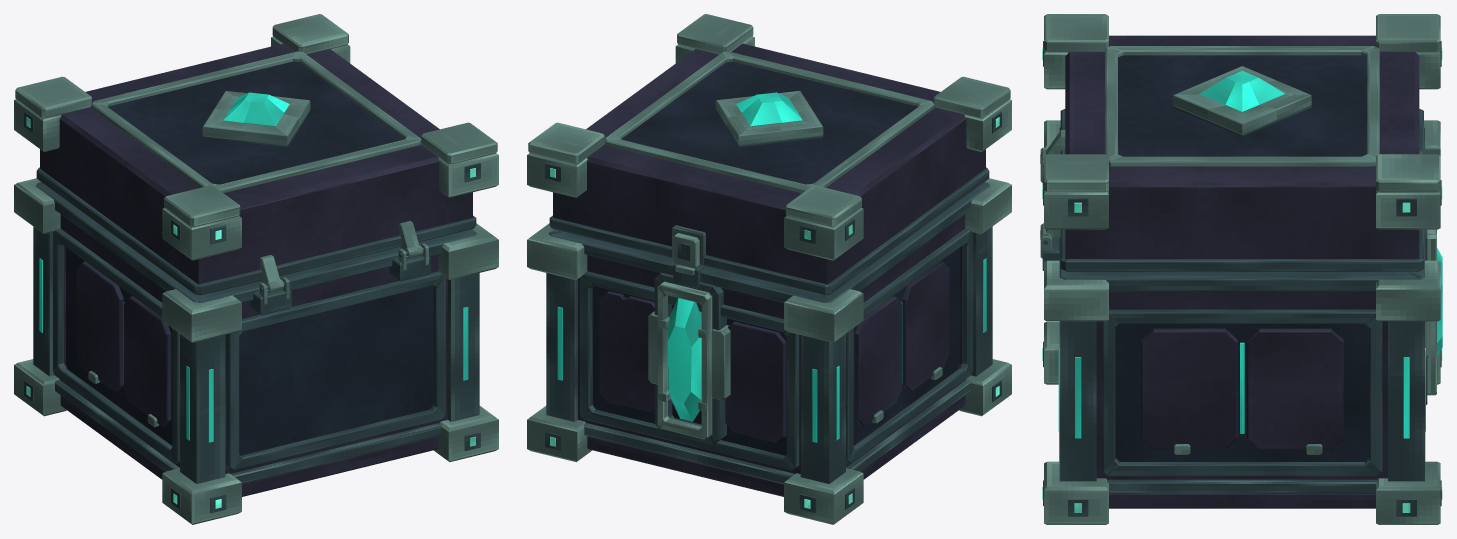
Rendered from relic.glb.
The picture shows the model from 3 angles, left to right: view 1: azimuth 30°, elevation 25°; view 2: azimuth 150°, elevation 25°; view 3: azimuth 270°, elevation 25°; orthographic projection. The views are drawn at different scales.
Visible parts, largest first — view 1: Body.Edge, LidAssembly.Shell, Body.Panel, LidAssembly.Metal, Body.Shell, LidAssembly.Panel, Body.Metal, LidAssembly.Edge, LidAssembly.Crystal, Body.Crystal; view 2: Body.Edge, LidAssembly.Shell, Body.Shell, LidAssembly.Metal, Body.Metal, LidAssembly.Panel, LidAssembly.Edge, Body.Panel, Body.Crystal, LidAssembly.Crystal; view 3: LidAssembly.Shell, Body.Shell, Body.Edge, LidAssembly.Metal, LidAssembly.Panel, Body.Metal, Body.Panel, LidAssembly.Edge, Body.Crystal, LidAssembly.Crystal.
Part boxes in pixels (bbox=[...]): Body.Edge: bbox=[24, 182, 480, 513]; LidAssembly.Shell: bbox=[40, 43, 472, 284]; Body.Panel: bbox=[66, 247, 433, 455]; LidAssembly.Metal: bbox=[14, 14, 498, 292]; Body.Shell: bbox=[59, 214, 447, 496]; LidAssembly.Panel: bbox=[108, 61, 404, 184]; Body.Metal: bbox=[14, 178, 498, 524]; LidAssembly.Edge: bbox=[24, 110, 480, 295]; LidAssembly.Crystal: bbox=[223, 92, 289, 126]; Body.Crystal: bbox=[39, 258, 468, 442]; Body.Edge: bbox=[545, 182, 1001, 513]; LidAssembly.Shell: bbox=[553, 43, 985, 284]; Body.Shell: bbox=[578, 214, 966, 496]; LidAssembly.Metal: bbox=[527, 14, 1011, 268]; Body.Metal: bbox=[527, 178, 1011, 524]; LidAssembly.Panel: bbox=[621, 61, 917, 184]; LidAssembly.Edge: bbox=[545, 110, 1001, 295]; Body.Panel: bbox=[592, 247, 959, 455]; Body.Crystal: bbox=[557, 258, 986, 442]; LidAssembly.Crystal: bbox=[736, 92, 802, 126]; LidAssembly.Shell: bbox=[1065, 35, 1419, 258]; Body.Shell: bbox=[1096, 291, 1387, 508]; Body.Edge: bbox=[1042, 127, 1441, 516]; LidAssembly.Metal: bbox=[1040, 14, 1440, 239]; LidAssembly.Panel: bbox=[1118, 55, 1366, 156]; Body.Metal: bbox=[1040, 120, 1440, 524]; Body.Panel: bbox=[1115, 323, 1369, 461]; LidAssembly.Edge: bbox=[1043, 41, 1441, 271]; Body.Crystal: bbox=[1058, 247, 1442, 438]; LidAssembly.Crystal: bbox=[1199, 71, 1284, 112].
Bounding box in the file's own units: 0.9737 × 0.9803 × 0.9806.
7 materials, 7 textured.
